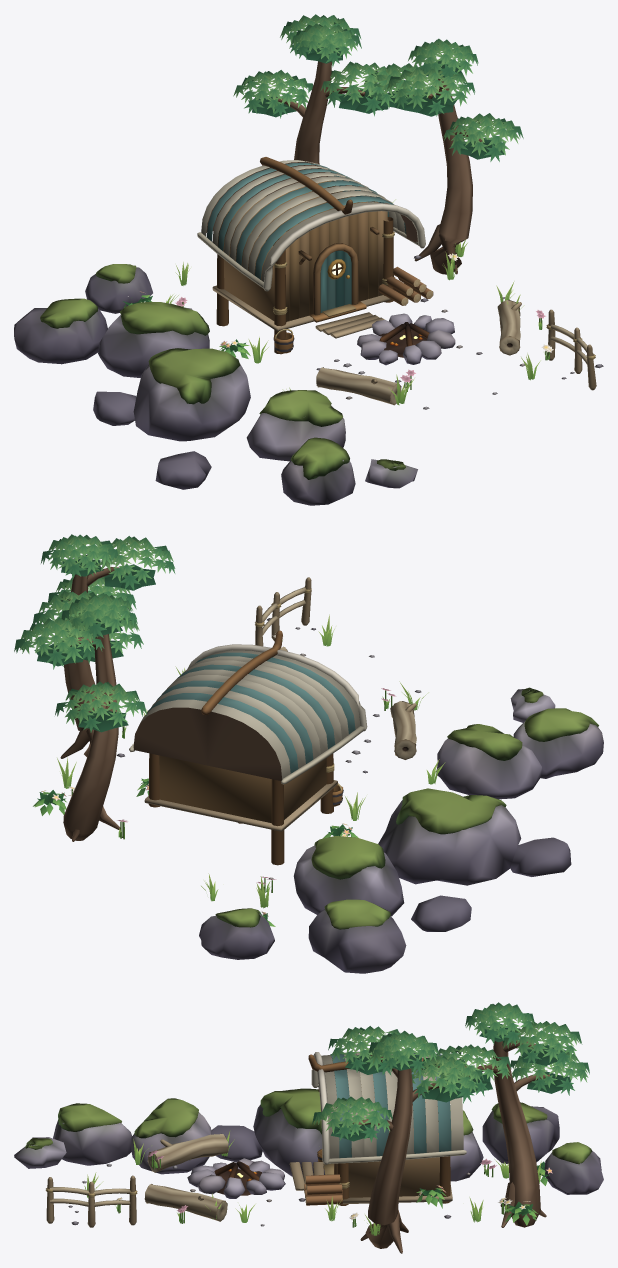
The model's file is poi-cove-0.glb.
The picture shows the model from 3 angles, top to bottom: view 1: azimuth 30°, elevation 25°; view 2: azimuth 150°, elevation 25°; view 3: azimuth 270°, elevation 25°; orthographic projection. The views are drawn at different scales.
Visible parts, largest first — view 1: body, leaf; view 2: body, leaf; view 3: body, leaf.
Boxes of the visible parts, left/top/right/bottom form: body: left=14, top=61, right=603, bottom=505; leaf: left=123, top=14, right=553, bottom=405; body: left=60, top=567, right=603, bottom=973; leaf: left=14, top=534, right=445, bottom=926; body: left=14, top=1041, right=603, bottom=1253; leaf: left=84, top=1002, right=589, bottom=1235.
Size of the model in its own units: 9.78 by 6.46 by 12.15.
